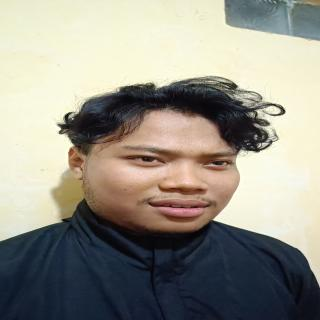Marah: (80, 104, 254, 239)
